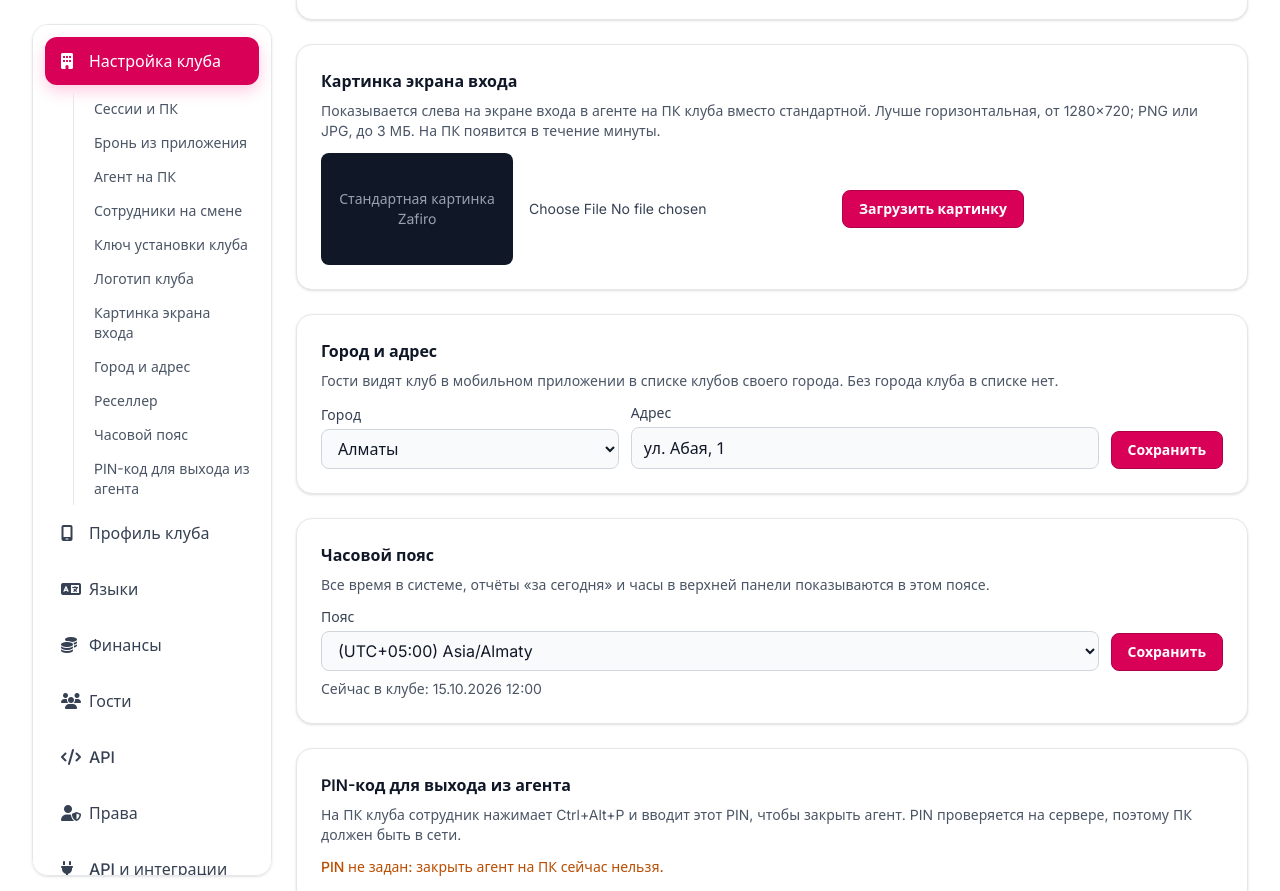
Настройка клуба: город и адрес › город клуба выбран; ошибка города — в карточке
(page scrolled)
Expected: the field with placeholder "ул. Абая, 10" holds "ул. Абая, 1", left=631, top=427, right=1099, bottom=469
Click the 1st button "Сохранить".
click(1167, 450)  # box left=1111, top=431, right=1223, bottom=469
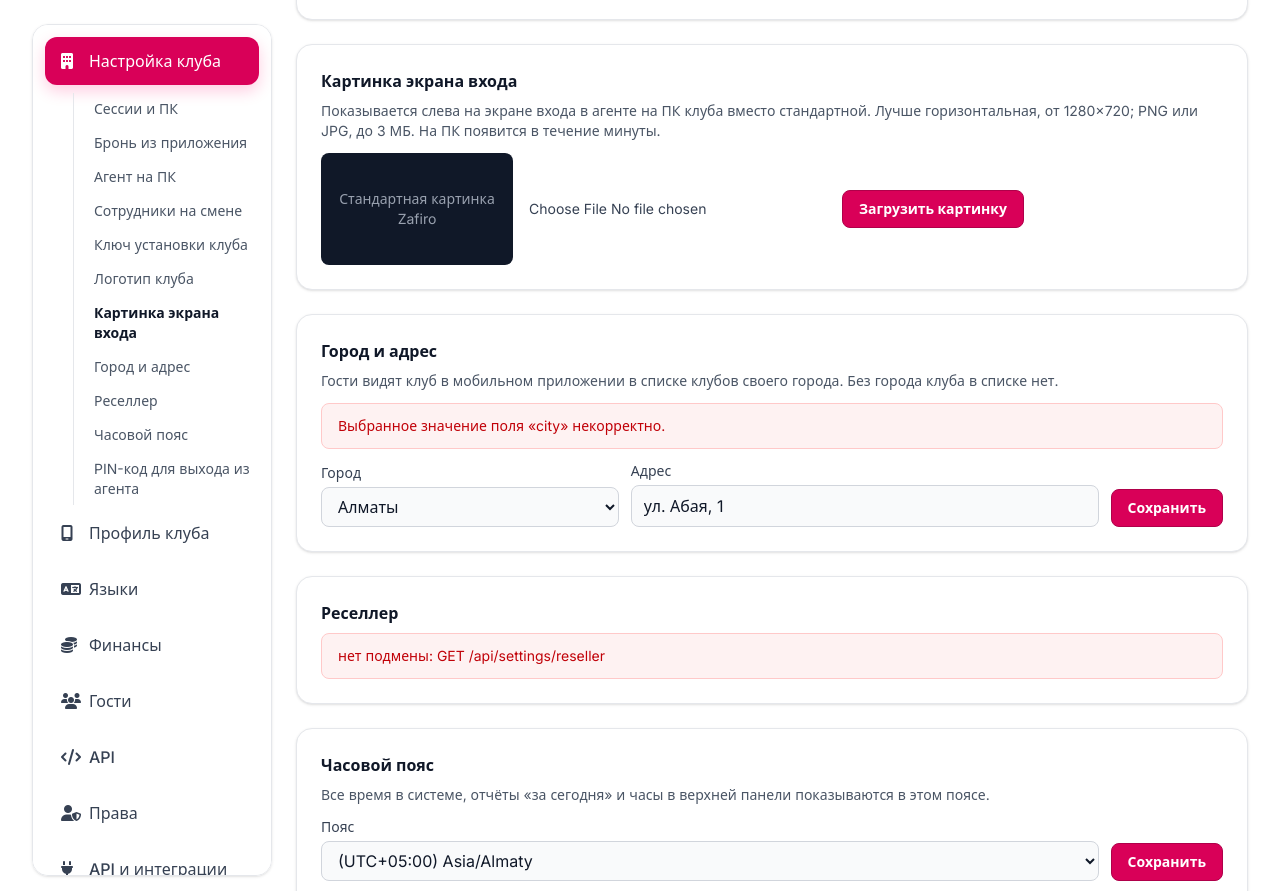
Expected: the message "Выбранное значение поля «city» некорректно." is shown, left=321, top=403, right=1223, bottom=449
